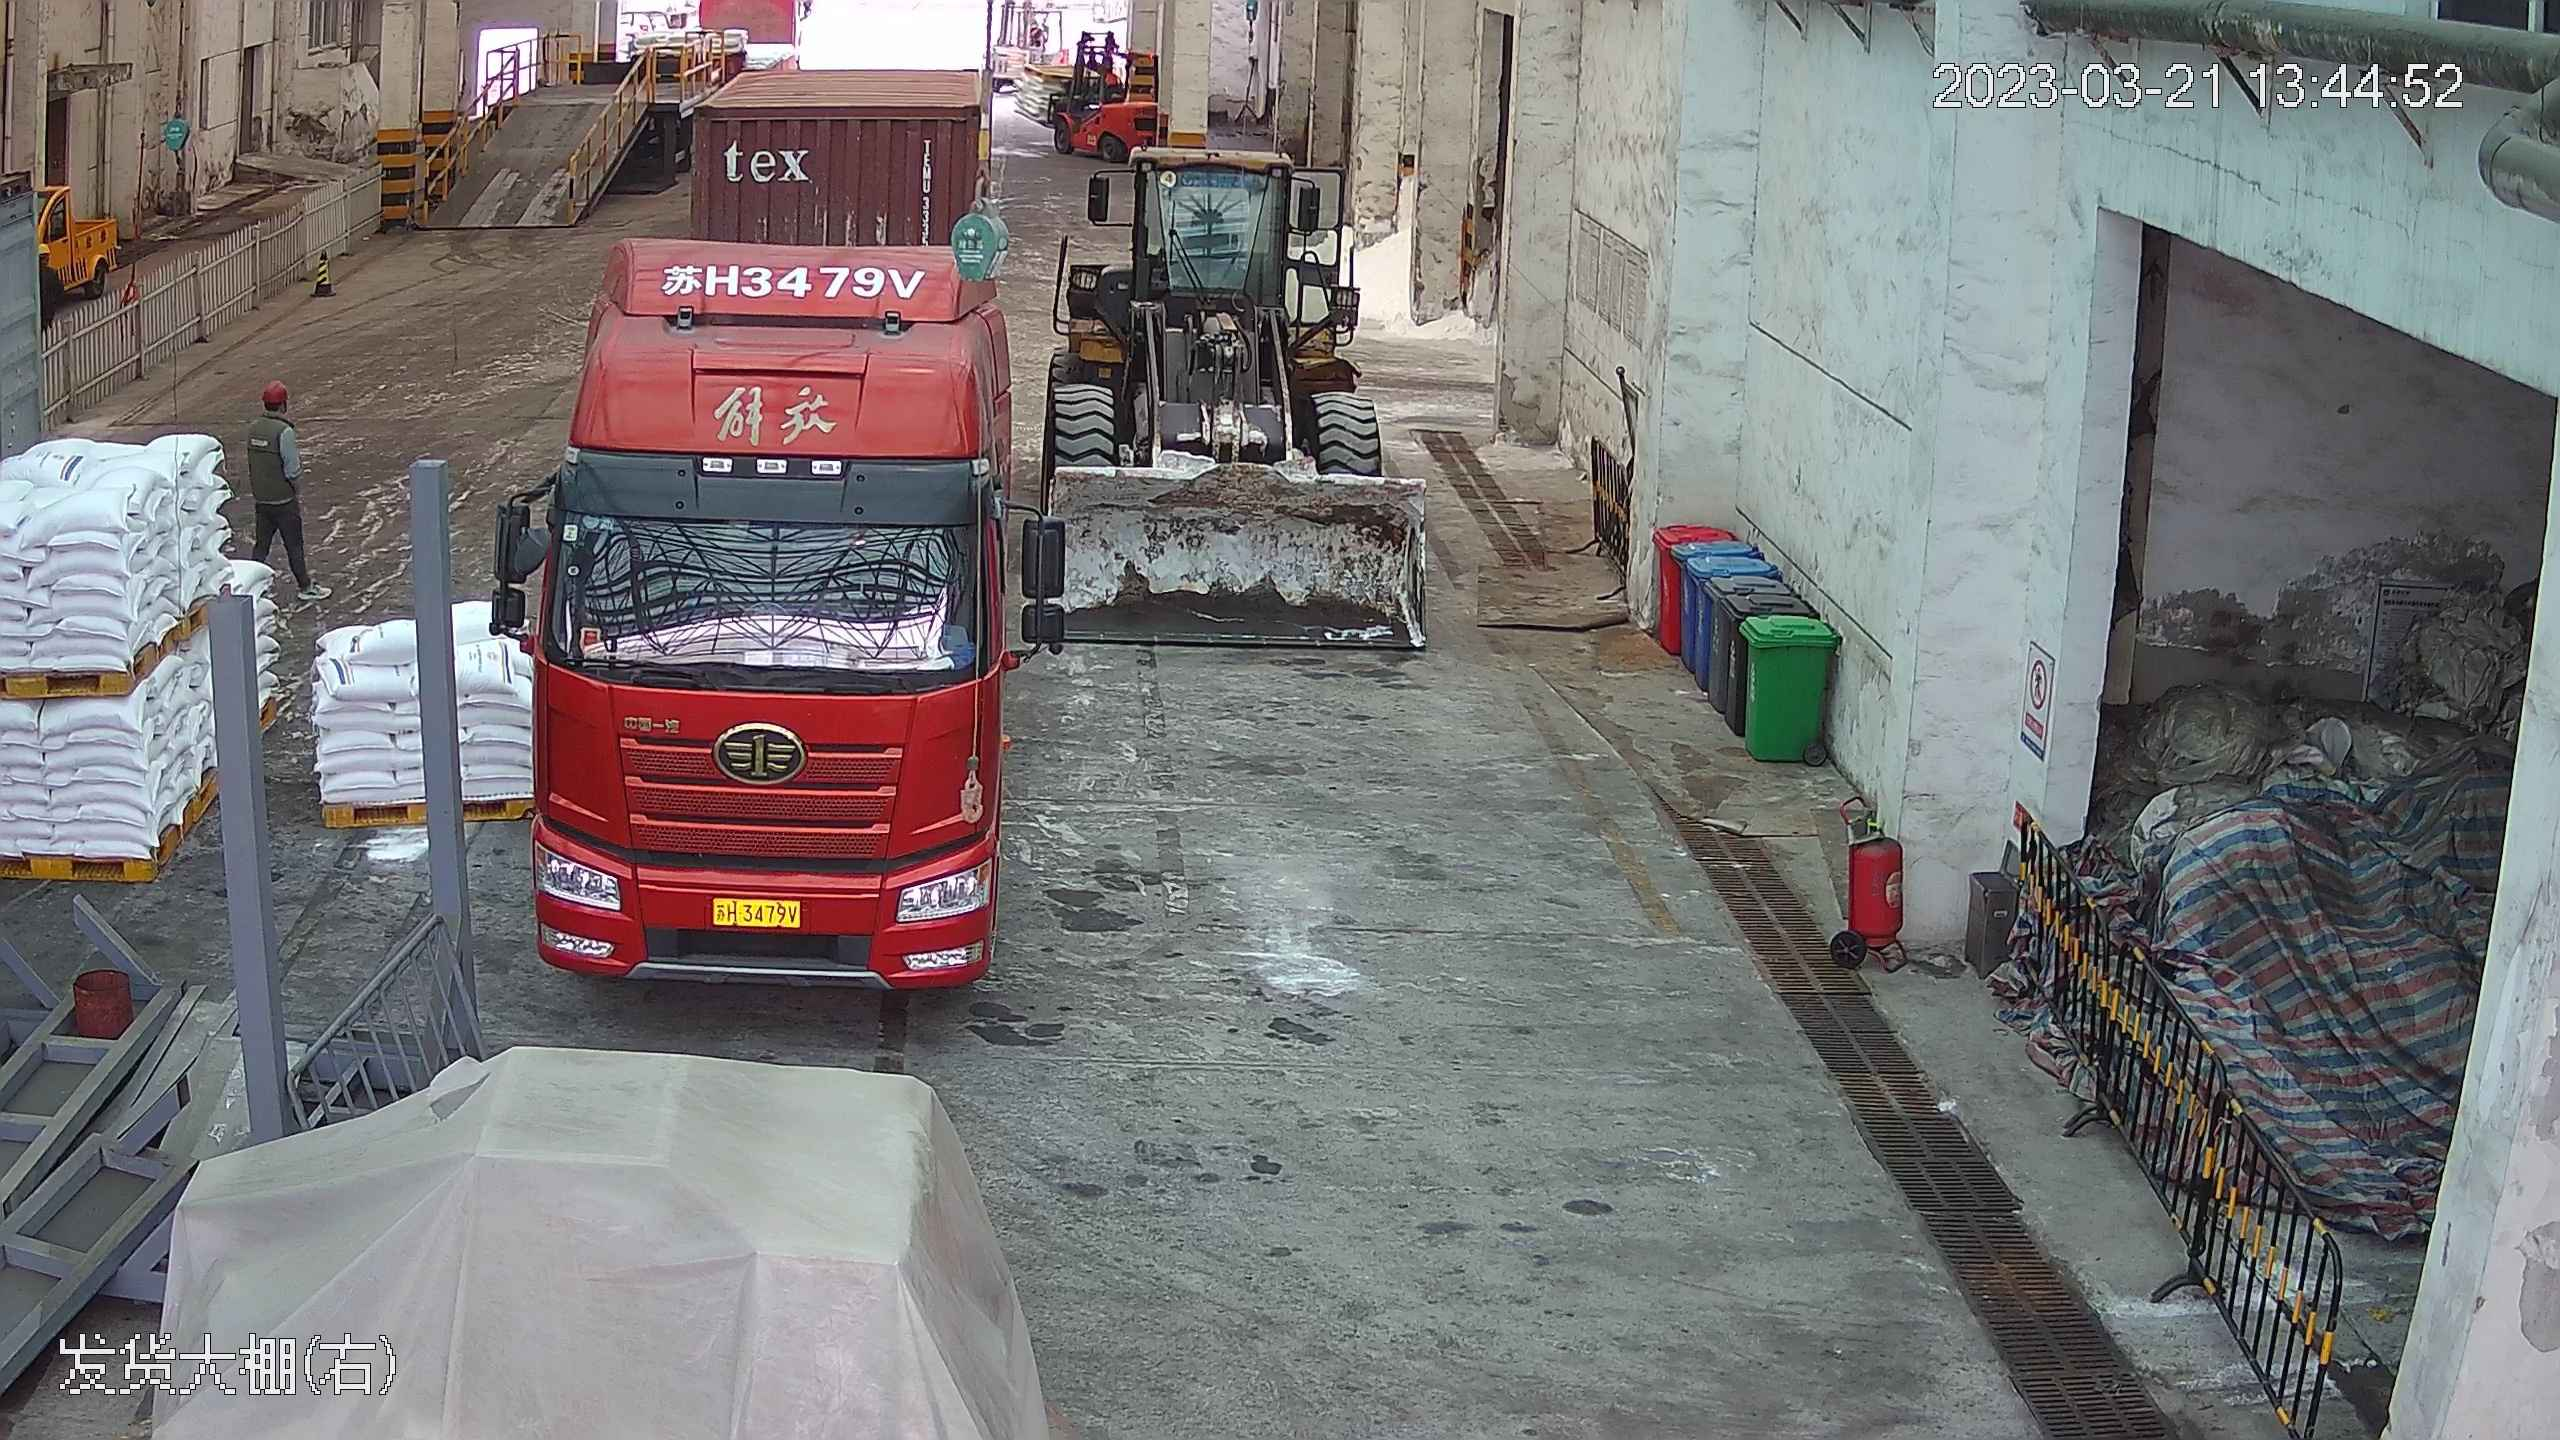head: (257, 378, 298, 447)
helmet: (262, 375, 289, 401)
people: (247, 374, 310, 587)
truck: (510, 33, 1035, 991)
